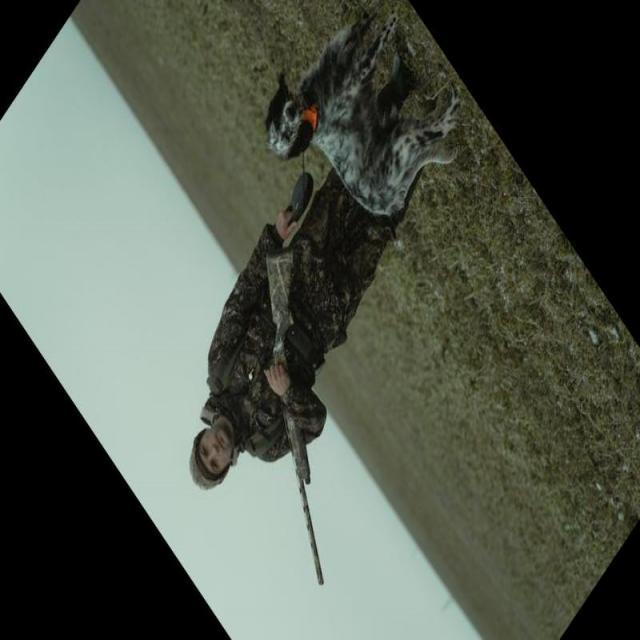weapon: (266, 247, 324, 586)
